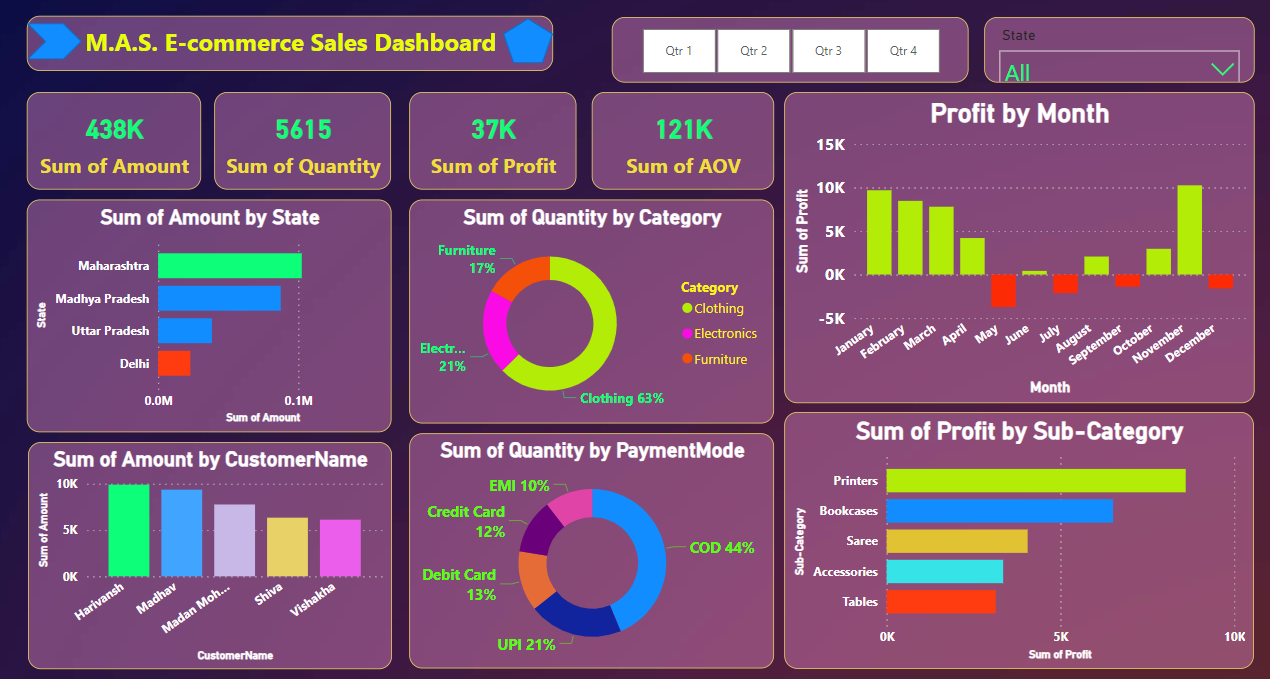

The page's visual inventory and layout, read from the dashboard file:
{"tool":"powerbi","page":{"name":"Page 1","canvas":[1280,720],"ordinal":0},"visuals":[{"type":"textbox","box":[33.8,54.3,526,55.5],"z":0},{"type":"columnChart","title":" Profit by Month","fields":{"Category":["Orders.Order Date.Variation.Date Hierarchy.Month"],"Y":["Details.Profit"]},"box":[791.2,130,470,311.2],"z":1000},{"type":"barChart","fields":{"Category":["Details.Sub-Category"],"Y":["Details.Profit"]},"box":[791.8,450.1,469.3,256.6],"z":2000},{"type":"donutChart","fields":{"Category":["Details.Category"],"Y":["Details.Quantity"]},"box":[455,237.5,326.2,223.8],"z":3000},{"type":"donutChart","fields":{"Y":["Details.Quantity"],"Category":["Details.PaymentMode"]},"box":[455.6,470.7,325.2,236],"z":4000},{"type":"card","fields":{"Values":["Details.Amount"]},"box":[34.3,130.4,174.3,97.4],"z":5000},{"type":"card","fields":{"Values":["Details.Quantity"]},"box":[220.9,130.4,177,97.4],"z":6000},{"type":"card","fields":{"Values":["Details.Profit"]},"box":[415.8,130.4,167.4,97.4],"z":7000},{"type":"card","fields":{"Values":["Details.AOV"]},"box":[598.3,130.4,182.5,97.4],"z":8000},{"type":"barChart","fields":{"Category":["Orders.State"],"Y":["Details.Amount"]},"box":[33.8,237.7,405.4,232.8],"z":9000},{"type":"shape","box":[510,56.2,50,45],"z":10000},{"type":"columnChart","fields":{"Category":["Orders.CustomerName"],"Y":["Details.Amount"]},"box":[35,480,403.8,227.5],"z":11000},{"type":"shape","box":[33.8,61.2,55,36.2],"z":12000},{"type":"slicer","fields":{"Values":["Orders.Order Date.Variation.Date Hierarchy.Quarter"]},"box":[618.9,54.9,356.8,65.9],"z":12002},{"type":"slicer","fields":{"Values":["Orders.State"]},"box":[990.7,54.9,270.3,65.9],"z":12003}]}

Visuals, with their boxes in screenshot pixels (x1, y1, x2, y2):
textbox: box(24, 15, 549, 70)
" Profit by Month" columnChart: box(780, 90, 1249, 401)
barChart - Details.Sub-Category x Details.Profit: box(780, 410, 1249, 666)
donutChart - Details.Category x Details.Quantity: box(444, 197, 770, 421)
donutChart - Details.Quantity x Details.PaymentMode: box(445, 430, 769, 666)
card - Details.Amount: box(24, 90, 198, 188)
card - Details.Quantity: box(211, 90, 387, 188)
card - Details.Profit: box(405, 90, 572, 188)
card - Details.AOV: box(587, 90, 769, 188)
barChart - Orders.State x Details.Amount: box(24, 198, 428, 430)
shape: box(499, 16, 549, 61)
columnChart - Orders.CustomerName x Details.Amount: box(25, 439, 428, 667)
shape: box(24, 21, 79, 58)
slicer - Orders.Order Date.Variation.Date Hierarchy.Quarter: box(608, 15, 964, 81)
slicer - Orders.State: box(979, 15, 1249, 81)
